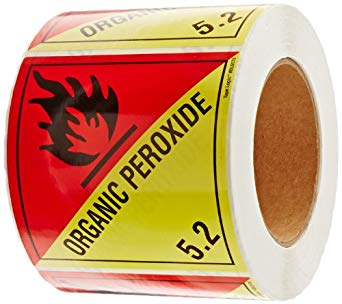OrganicPeroxide: (8, 52, 249, 274)
